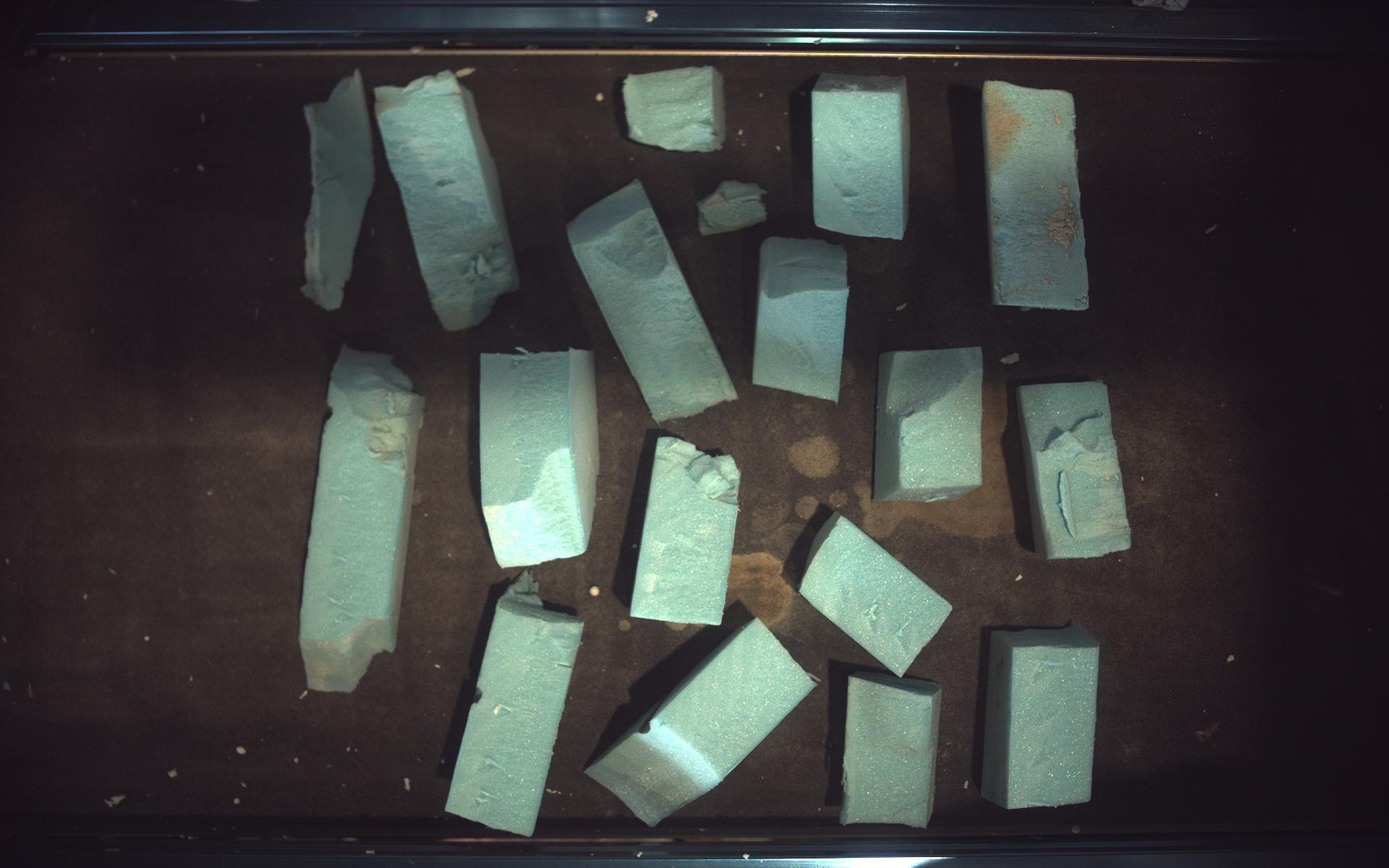foam: (587, 621, 817, 827), (300, 346, 424, 693), (568, 179, 737, 422), (375, 69, 519, 331), (446, 571, 584, 838), (480, 349, 599, 568), (985, 80, 1091, 310), (802, 516, 953, 676), (983, 626, 1102, 810), (632, 438, 742, 626), (1020, 382, 1134, 559), (301, 69, 374, 310), (876, 346, 985, 502), (813, 72, 911, 239), (754, 237, 851, 401), (842, 673, 943, 830), (624, 64, 726, 151), (698, 180, 768, 236)
